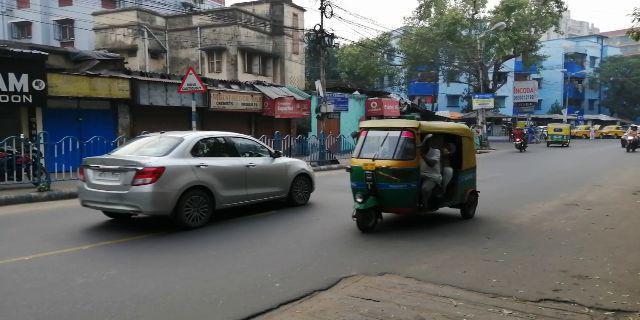Autorickshaw: (353, 116, 483, 230), (548, 123, 572, 148)
Car: (81, 134, 315, 241)
